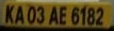character: (4, 4, 14, 24), (14, 5, 24, 24), (48, 6, 58, 25), (26, 5, 35, 24), (70, 6, 79, 24), (86, 7, 95, 25), (95, 6, 103, 25), (36, 6, 44, 24), (58, 6, 66, 24), (79, 5, 86, 25)
